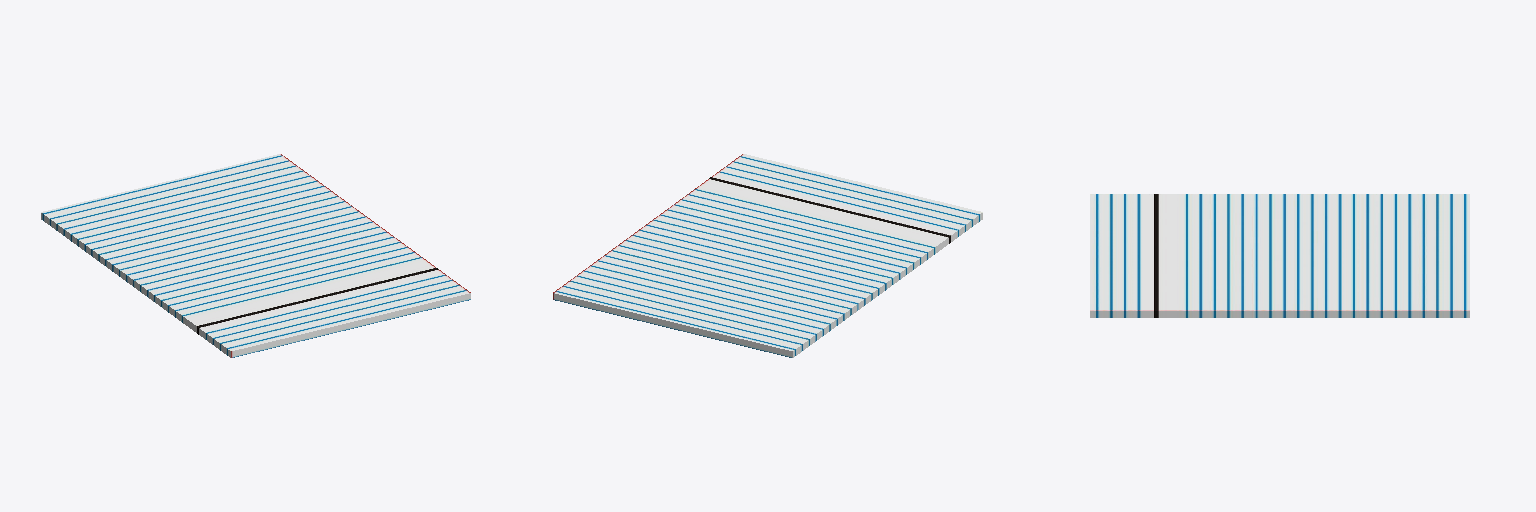
3 renders of one model, left to right at view 1: azimuth 30°, elevation 25°; view 2: azimuth 150°, elevation 25°; view 3: azimuth 270°, elevation 25°, orthographic.
Parts seen in each view (by area): view 1: |paper|Root|default_texture; view 2: |paper|Root|default_texture; view 3: |paper|Root|default_texture.
Part boxes in pixels (bbox=[...]): |paper|Root|default_texture: bbox=[41, 154, 470, 357]; |paper|Root|default_texture: bbox=[553, 154, 982, 357]; |paper|Root|default_texture: bbox=[1090, 194, 1469, 317].
Bounding box in the file's own units: 0.0036 × 0.0001 × 0.005.
Materials: 1 (1 with a texture image).